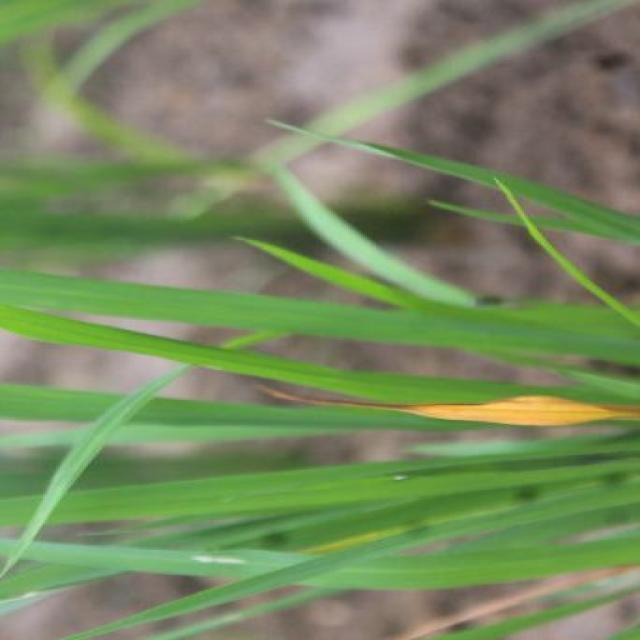Rice Tungro: (296, 380, 625, 441)
